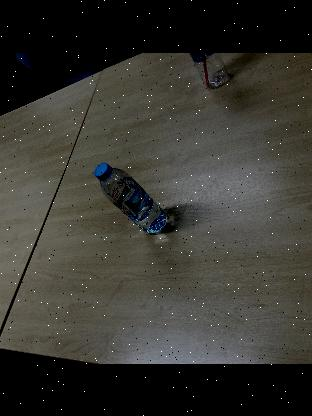Plastic Bottle: (92, 162, 174, 233), (188, 52, 234, 86)
